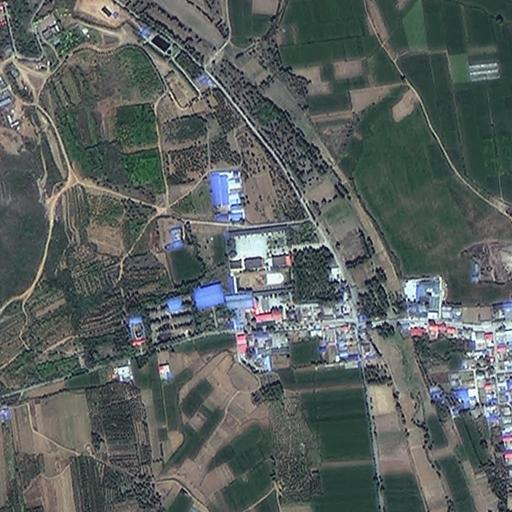school: (226, 228, 290, 292)
